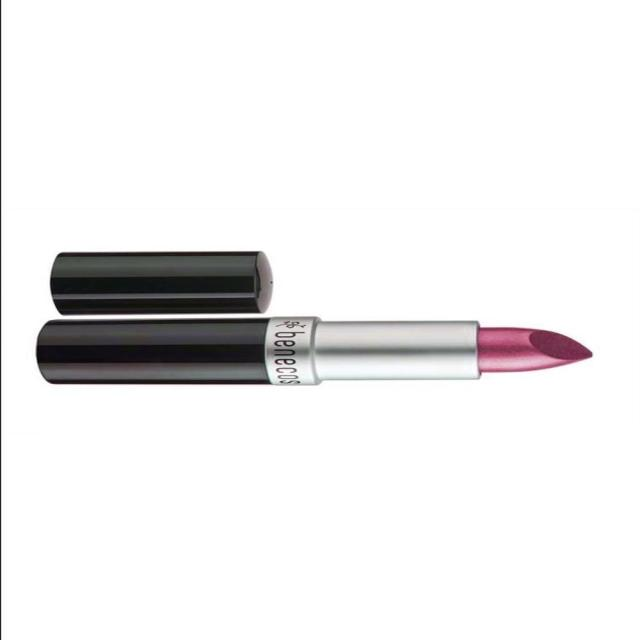lipstick: (5, 234, 603, 424)
